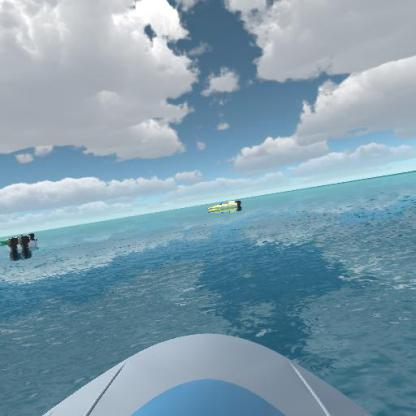usv0: (0, 230, 22, 247)
usv1: (7, 232, 42, 258)
usv2: (206, 194, 246, 219)
